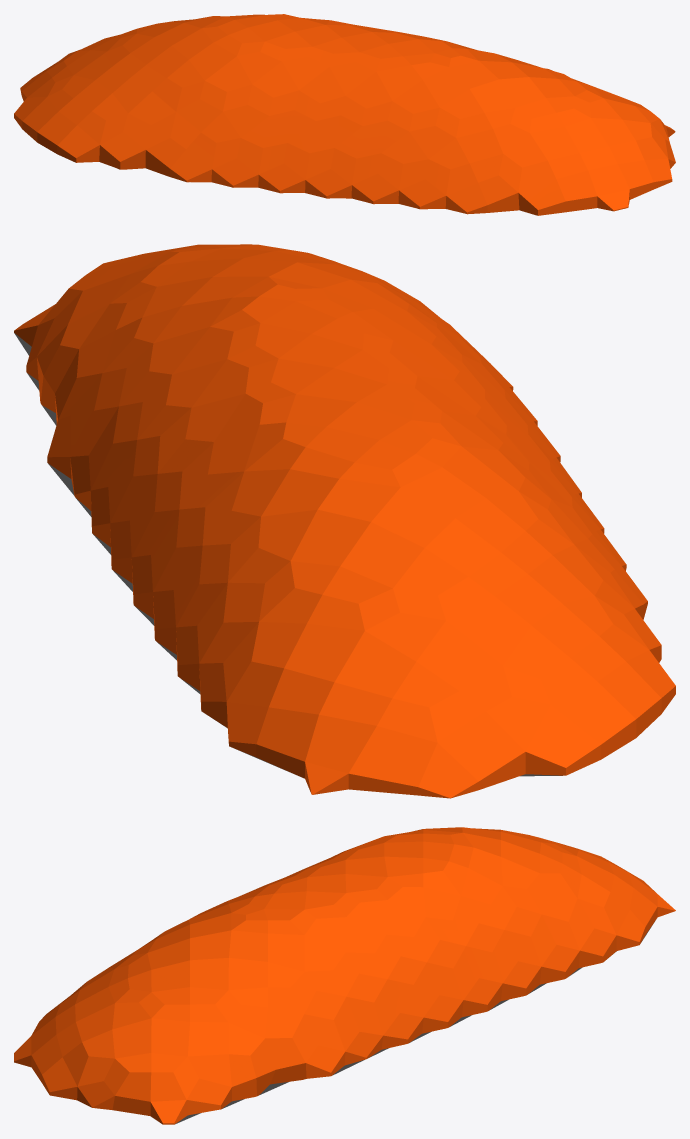
3 views of the same model, one above another, from view 1: azimuth 30°, elevation 25°; view 2: azimuth 150°, elevation 25°; view 3: azimuth 270°, elevation 25° (orthographic). The views are drawn at different scales.
Parts seen in each view (by area): view 1: 19.005; view 2: 19.005; view 3: 19.005.
Part boxes in pixels (x1,y1,x2,y2): 19.005: [14, 14, 675, 215]; 19.005: [14, 244, 675, 798]; 19.005: [14, 827, 675, 1124].
Bounding box in the file's own units: 8.24 × 1.58 × 8.52.
